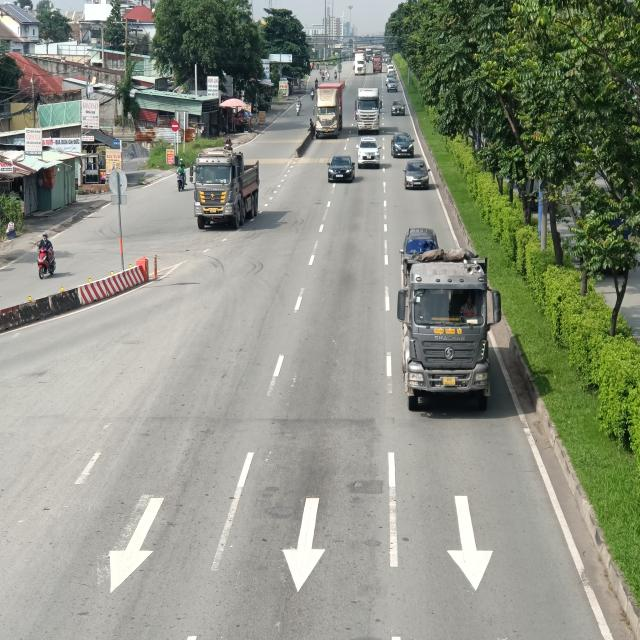car: (356, 135, 382, 168), (403, 160, 431, 190), (327, 154, 355, 183), (391, 131, 414, 158), (390, 99, 406, 116), (387, 80, 398, 92)
container: (396, 251, 502, 411), (192, 152, 259, 228), (312, 80, 342, 138), (354, 50, 366, 75)
truck: (354, 87, 382, 134), (372, 54, 383, 73)
